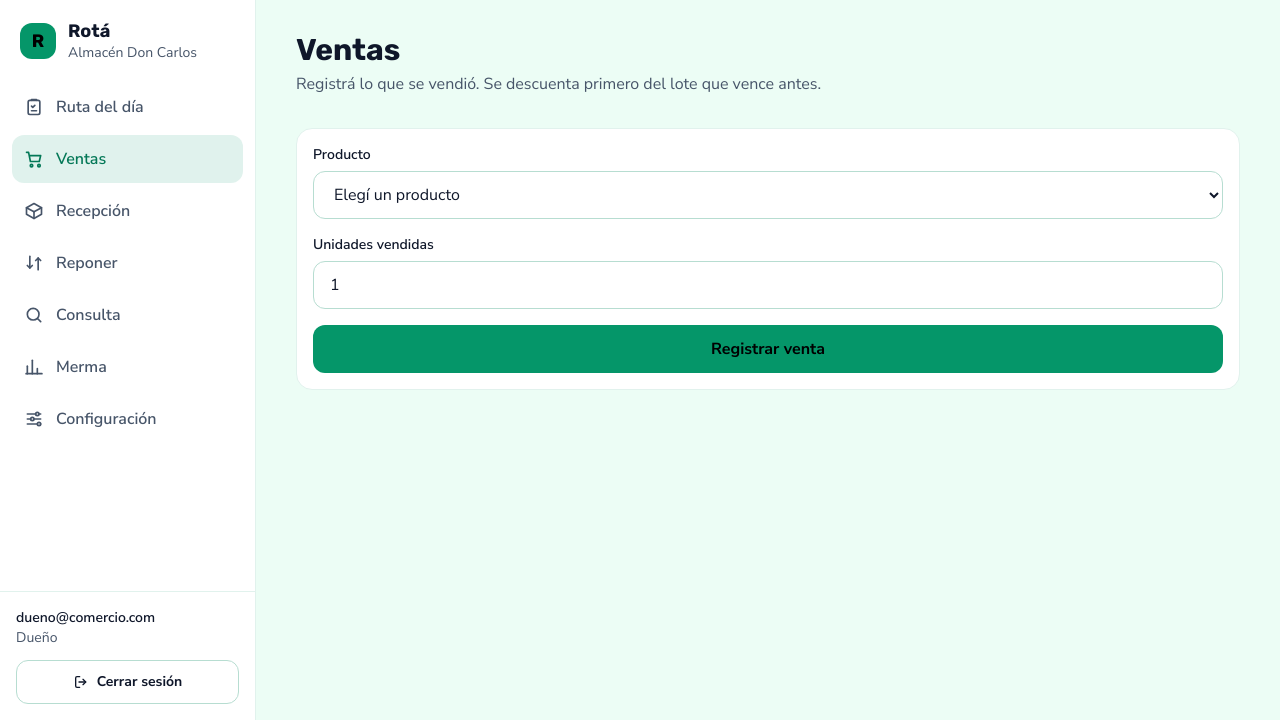
Scenario: Ventas (HU-20) › pide elegir un producto antes de registrar
This screenshot has width=1280, height=720.
What coordinates should you click on to do the following:
click the button "Registrar venta"
I would click on:
 (768, 349)
Its box is [313,325,1223,373].
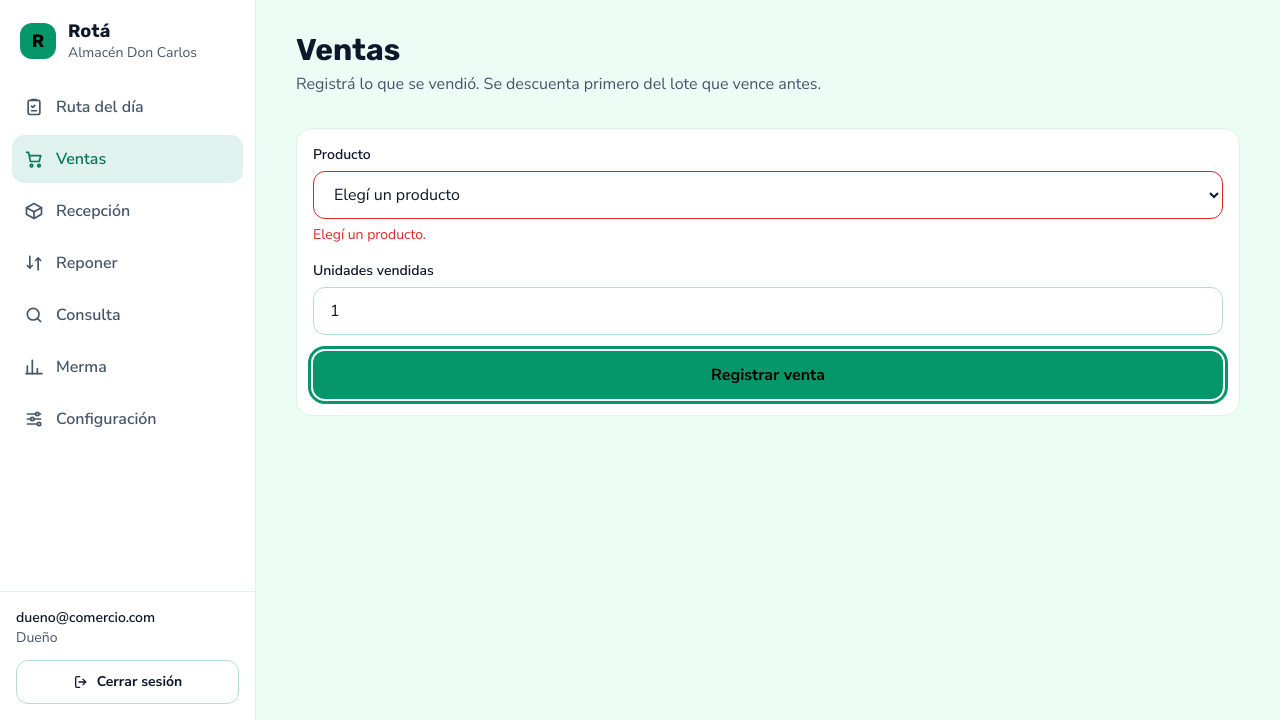
Check: the text "Elegí un producto." is shown, box [313,225,426,244]
